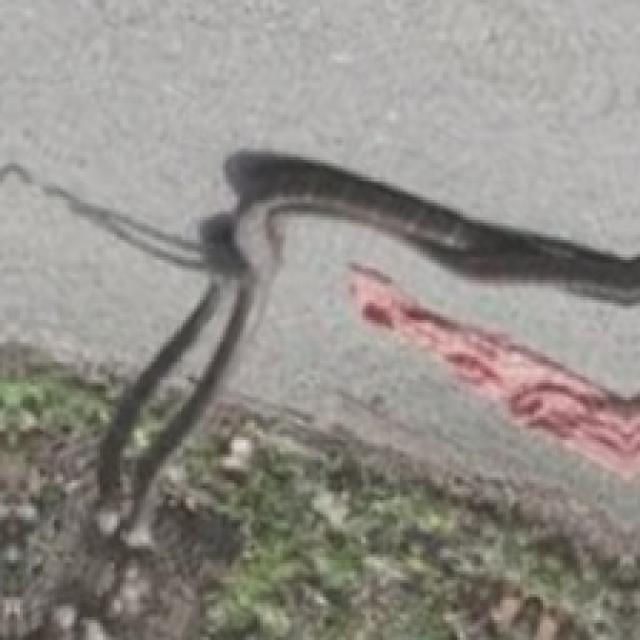king cobra: (0, 151, 637, 637), (446, 566, 591, 637)
